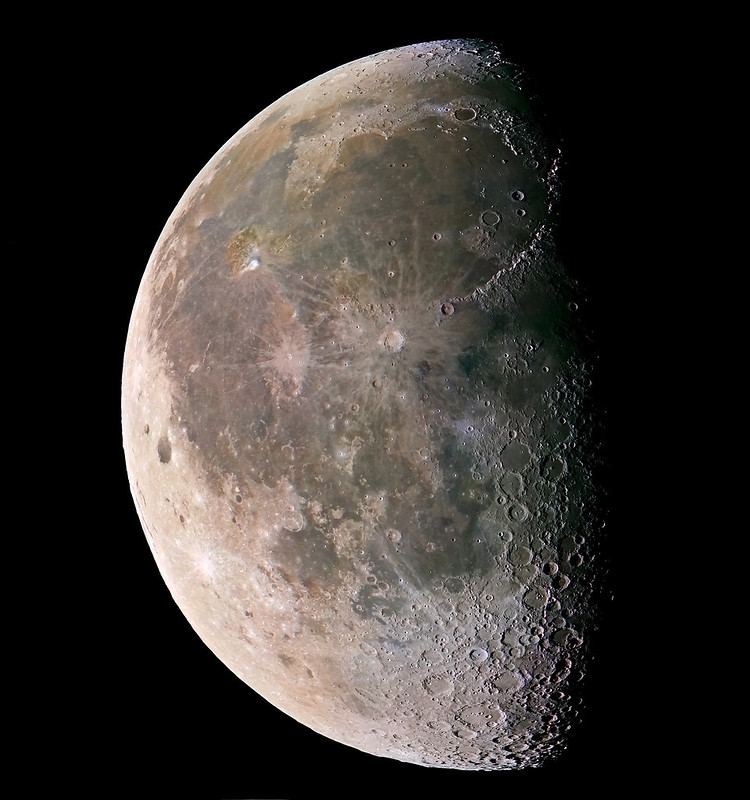crater: (246, 313, 329, 406), (359, 309, 435, 395), (176, 531, 249, 595), (153, 414, 195, 476), (441, 701, 520, 730), (470, 196, 508, 254), (239, 413, 286, 454), (444, 96, 487, 132), (458, 631, 497, 670), (411, 669, 460, 699), (424, 213, 462, 251), (409, 642, 459, 670), (486, 669, 534, 698), (371, 225, 412, 258), (359, 566, 394, 599), (354, 636, 391, 663), (235, 252, 268, 277), (409, 443, 445, 465), (378, 523, 410, 547), (324, 106, 350, 125), (228, 493, 260, 508), (375, 547, 396, 563)
